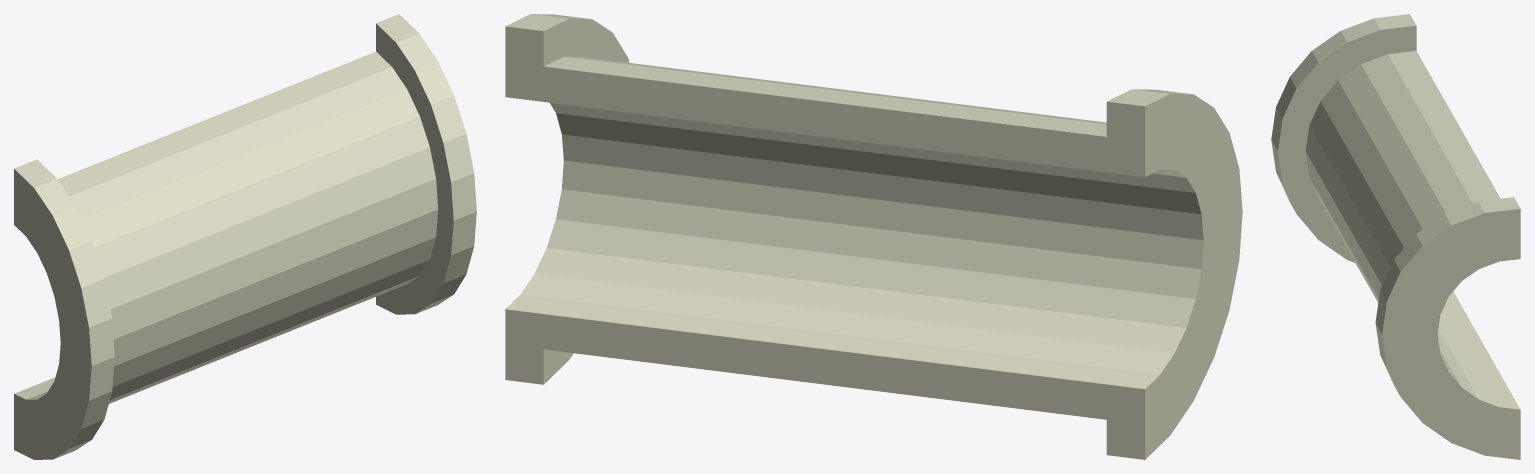
The model's file is section_114.obj.
The picture shows the model from 3 angles, left to right: view 1: azimuth 30°, elevation 25°; view 2: azimuth 150°, elevation 25°; view 3: azimuth 270°, elevation 25°; orthographic projection. The views are drawn at different scales.
Bounding box in the file's own units: 16.63 × 10 × 9.
